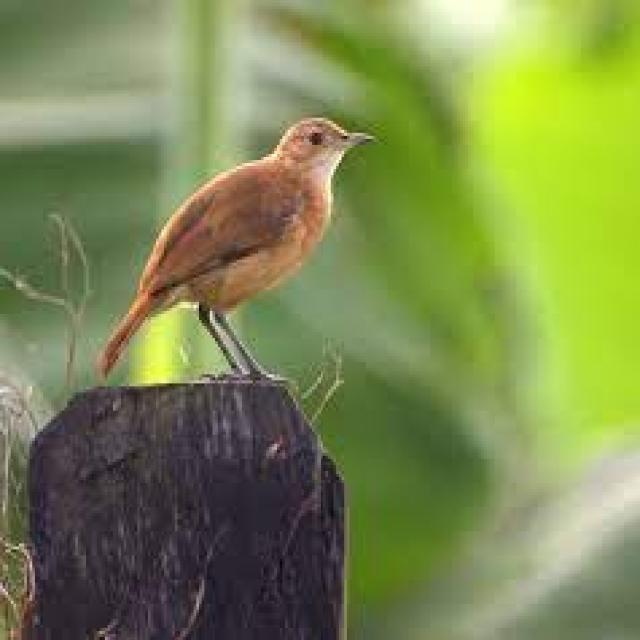bird: (93, 108, 386, 410)
